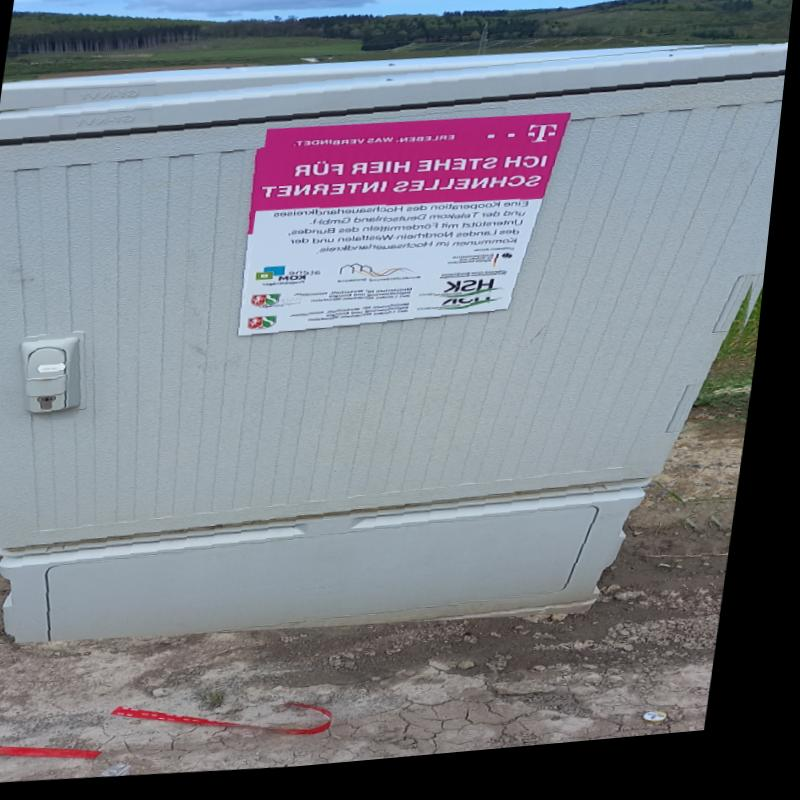NT-Gehause: (0, 57, 791, 644)
Steaker: (248, 113, 576, 327)
